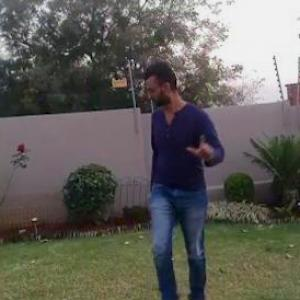land_hand: (184, 130, 215, 160)
